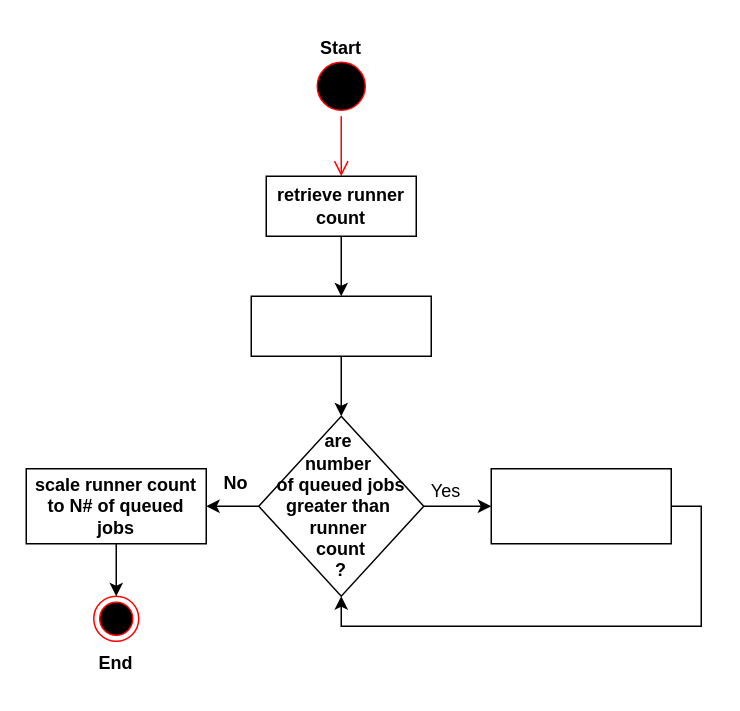
Some shapes in this 740 by 711 pixel diagram are drawn without their labels. Here are the shapes that lost their labels. From the top down, the centre of each, then its label:
At (340,325): "retrieve no of queued jobs".
At (580,505): "increment runner count to N# queued jobs".
